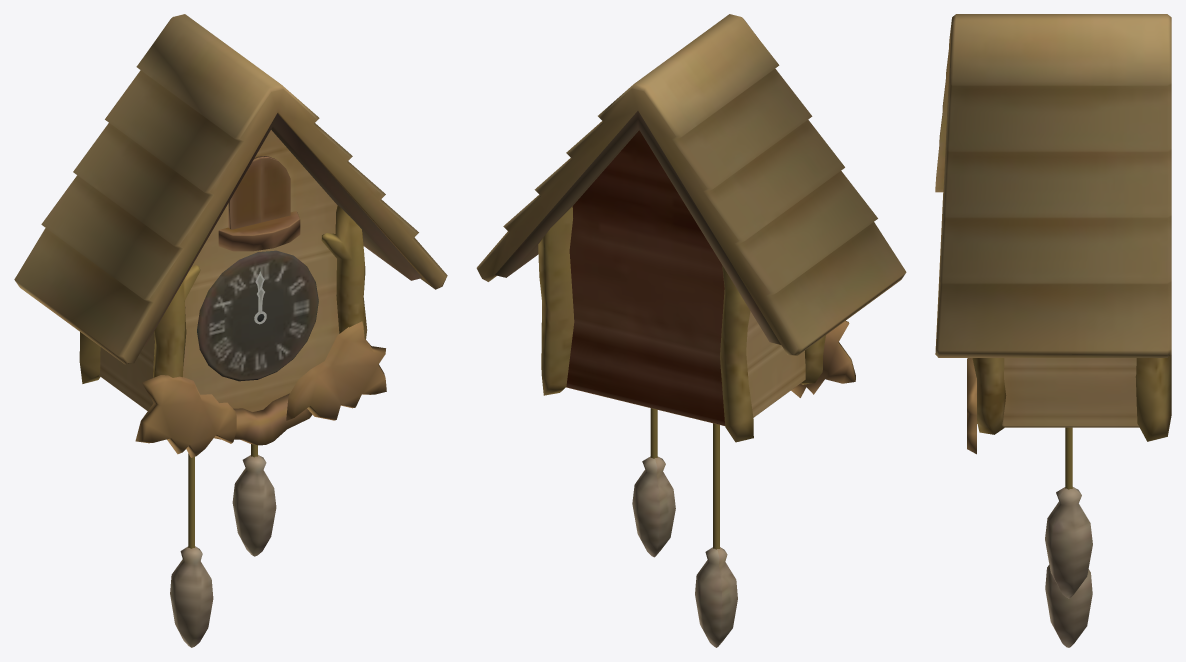
The picture shows the model from 3 angles, left to right: view 1: azimuth 30°, elevation 25°; view 2: azimuth 150°, elevation 25°; view 3: azimuth 270°, elevation 25°; orthographic projection. The views are drawn at different scales.
Size of the model in its own units: 7.5 by 12.88 by 4.25.
2 materials, 2 textured.
